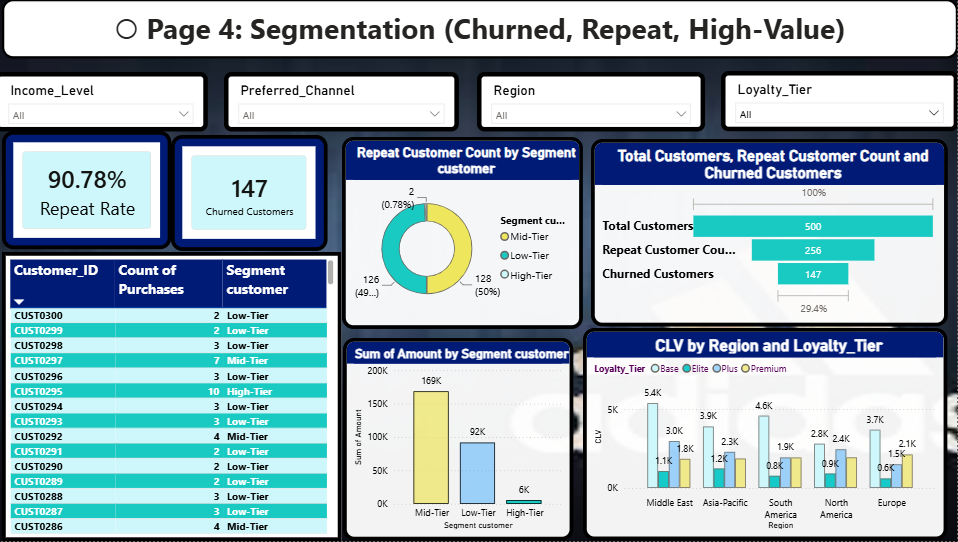

This screenshot's page, from the dashboard's own definition file:
{"tool":"powerbi","page":{"name":"Task-7(4)","canvas":[1280,720],"ordinal":12},"visuals":[{"type":"textbox","box":[10.2,0,1270.2,79],"z":0},{"type":"donutChart","fields":{"Category":["Customer_Transactions (2).Segment customer"],"Y":["Measure.Repeat Customer Count"]},"box":[462.4,182.9,320.5,254.6],"z":1000},{"type":"slicer","fields":{"Values":["Customer_Demographics.Income_Level"]},"box":[0,96.6,283.9,79],"z":2000},{"type":"slicer","fields":{"Values":["Customer_Demographics.Preferred_Channel"]},"box":[305.9,96.6,311.7,79],"z":3000},{"type":"slicer","fields":{"Values":["Customer_Demographics.Region"]},"box":[641,96.6,302.9,79],"z":4000},{"type":"slicer","fields":{"Values":["Loyalty_Program.Loyalty_Tier"]},"box":[965.9,95.1,314.6,80.5],"z":5000},{"type":"clusteredColumnChart","fields":{"Category":["Customer_Demographics.Region"],"Series":["Loyalty_Program.Loyalty_Tier"],"Y":["Measure.CLV"]},"box":[782.9,437.6,484.4,282.4],"z":6000},{"type":"cardVisual","fields":{"Data":["Measure.Repeat Rate"]},"box":[10.7,175.2,225.3,157.3],"z":7000},{"type":"clusteredColumnChart","fields":{"Category":["Customer_Transactions (2).Segment customer"],"Y":["Sum(Customer_Transactions.Amount)"]},"box":[463.9,450.7,305.9,269.3],"z":8000},{"type":"tableEx","fields":{"Values":["Customer_Transactions (2).Customer_ID","Customer_Transactions (2).Count of Purchases","Customer_Transactions (2).Segment customer"]},"box":[10.7,336.1,450.5,384.4],"z":9000},{"type":"cardVisual","fields":{"Data":["Measure.Churned Customers"]},"box":[235.6,180,207.8,153.7],"z":10000},{"type":"funnel","fields":{"Y":["Measure.Total Customers","Measure.Repeat Customer Count","Measure.Churned Customers"]},"box":[793.2,185.9,474.1,248.8],"z":11000}]}

Visuals, with their boxes in screenshot pixels (x1, y1, x2, y2), scaled from the page's 1280x720 canvas onto the 958x542 screenshot:
textbox: <region>8, 0, 957, 59</region>
donutChart - Customer_Transactions (2).Segment customer x Measure.Repeat Customer Count: <region>346, 138, 586, 329</region>
slicer - Customer_Demographics.Income_Level: <region>0, 73, 212, 132</region>
slicer - Customer_Demographics.Preferred_Channel: <region>229, 73, 462, 132</region>
slicer - Customer_Demographics.Region: <region>480, 73, 706, 132</region>
slicer - Loyalty_Program.Loyalty_Tier: <region>723, 72, 957, 132</region>
clusteredColumnChart - Customer_Demographics.Region x Loyalty_Program.Loyalty_Tier: <region>586, 329, 948, 541</region>
cardVisual - Measure.Repeat Rate: <region>8, 132, 177, 250</region>
clusteredColumnChart - Customer_Transactions (2).Segment customer x Sum(Customer_Transactions.Amount): <region>347, 339, 576, 541</region>
tableEx - Customer_Transactions (2).Customer_ID x Customer_Transactions (2).Count of Purchases: <region>8, 253, 345, 541</region>
cardVisual - Measure.Churned Customers: <region>176, 136, 332, 251</region>
funnel - Measure.Total Customers x Measure.Repeat Customer Count: <region>594, 140, 948, 327</region>
